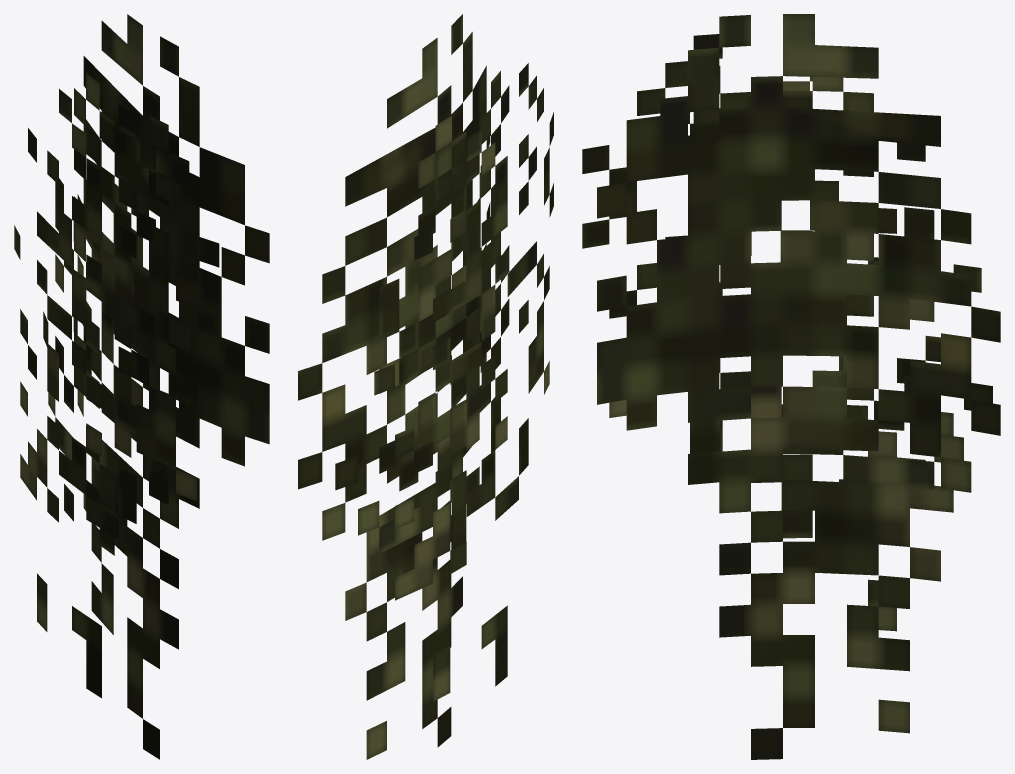
Rendered from ObjMD_Grass_Wall_Short_A.FBX.
The picture shows the model from 3 angles, left to right: view 1: azimuth 30°, elevation 25°; view 2: azimuth 150°, elevation 25°; view 3: azimuth 270°, elevation 25°; orthographic projection. The views are drawn at different scales.
Visible parts, largest first — view 1: ObjMD_Grass_Wall_Short_A; view 2: ObjMD_Grass_Wall_Short_A; view 3: ObjMD_Grass_Wall_Short_A.
Boxes of the visible parts, x1,y1,x2,y2 form: ObjMD_Grass_Wall_Short_A: (14, 14, 269, 759); ObjMD_Grass_Wall_Short_A: (298, 14, 553, 759); ObjMD_Grass_Wall_Short_A: (582, 14, 1000, 759).
Bounding box in the file's own units: 20.44 × 150 × 76.38.
